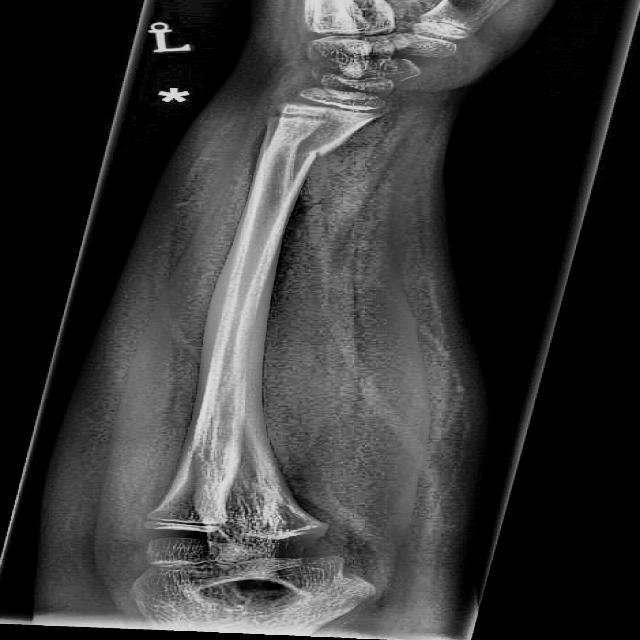fracture: (305, 144, 331, 160)
